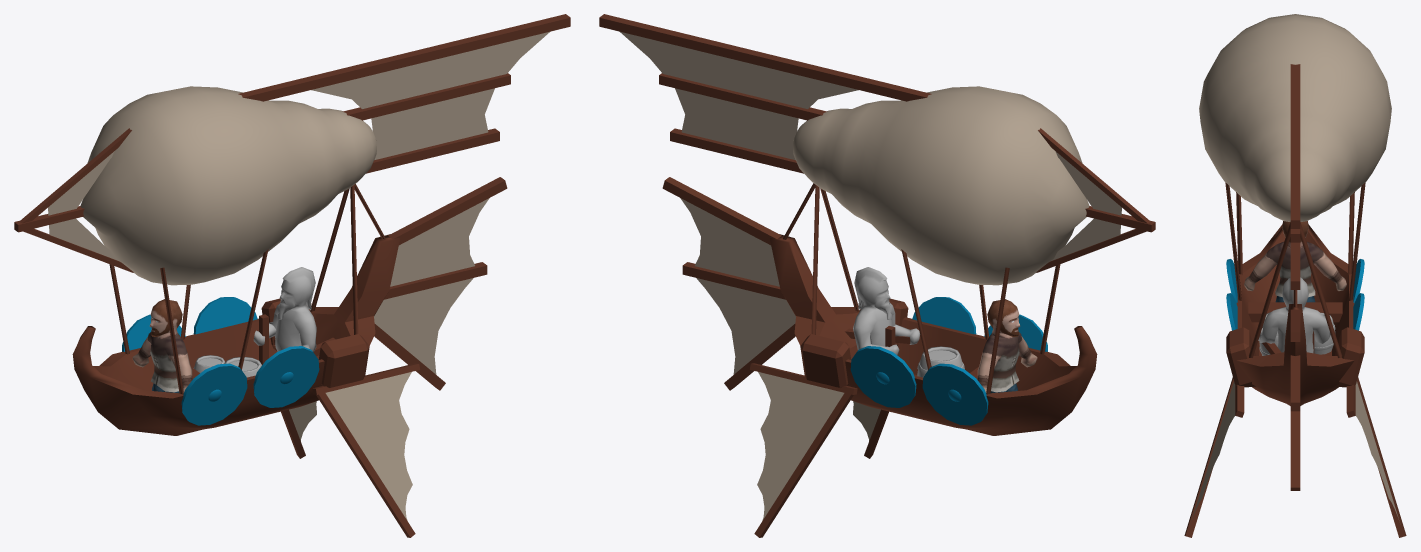
File: FlyingInvader_MiniAirship.fbx
3 renders of one model, left to right at view 1: azimuth 30°, elevation 25°; view 2: azimuth 150°, elevation 25°; view 3: azimuth 270°, elevation 25°, orthographic. The views are drawn at different scales.
Visible parts, largest first — view 1: Flying_Invader_Ship, RoundShield6, RoundShield5, Petard_Guy1, Villager1; view 2: Flying_Invader_Ship, RoundShield6, RoundShield5, Villager1, Petard_Guy1, ExplosiveBarrel3; view 3: Flying_Invader_Ship, Villager1, Petard_Guy1, RoundShield6, RoundShield5, ExplosiveBarrel2.
Part boxes in pixels (left/top/right/bottom): Flying_Invader_Ship: left=14, top=14, right=570, bottom=537; RoundShield6: left=193, top=297, right=319, bottom=407; RoundShield5: left=122, top=314, right=247, bottom=425; Petard_Guy1: left=253, top=267, right=316, bottom=351; Villager1: left=132, top=299, right=192, bottom=393; Flying_Invader_Ship: left=599, top=14, right=1155, bottom=537; RoundShield6: left=850, top=297, right=976, bottom=407; RoundShield5: left=922, top=314, right=1047, bottom=425; Villager1: left=977, top=299, right=1037, bottom=393; Petard_Guy1: left=853, top=267, right=920, bottom=355; ExplosiveBarrel3: left=917, top=346, right=964, bottom=377; Flying_Invader_Ship: left=1184, top=14, right=1406, bottom=537; Villager1: left=1244, top=221, right=1346, bottom=302; Petard_Guy1: left=1258, top=277, right=1330, bottom=353; RoundShield6: left=1226, top=293, right=1364, bottom=330; RoundShield5: left=1226, top=259, right=1364, bottom=303; ExplosiveBarrel2: left=1314, top=312, right=1335, bottom=354.
Size of the model in its own units: 64.18 by 49.19 by 22.92.
